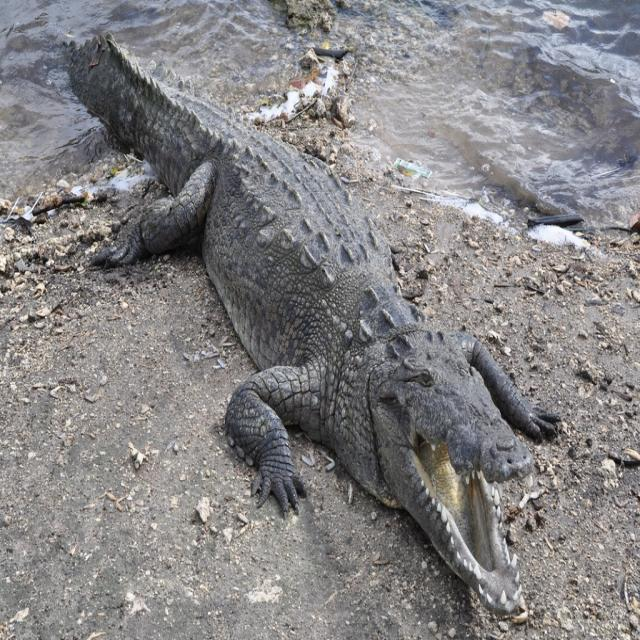crocodile: (75, 33, 565, 623)
